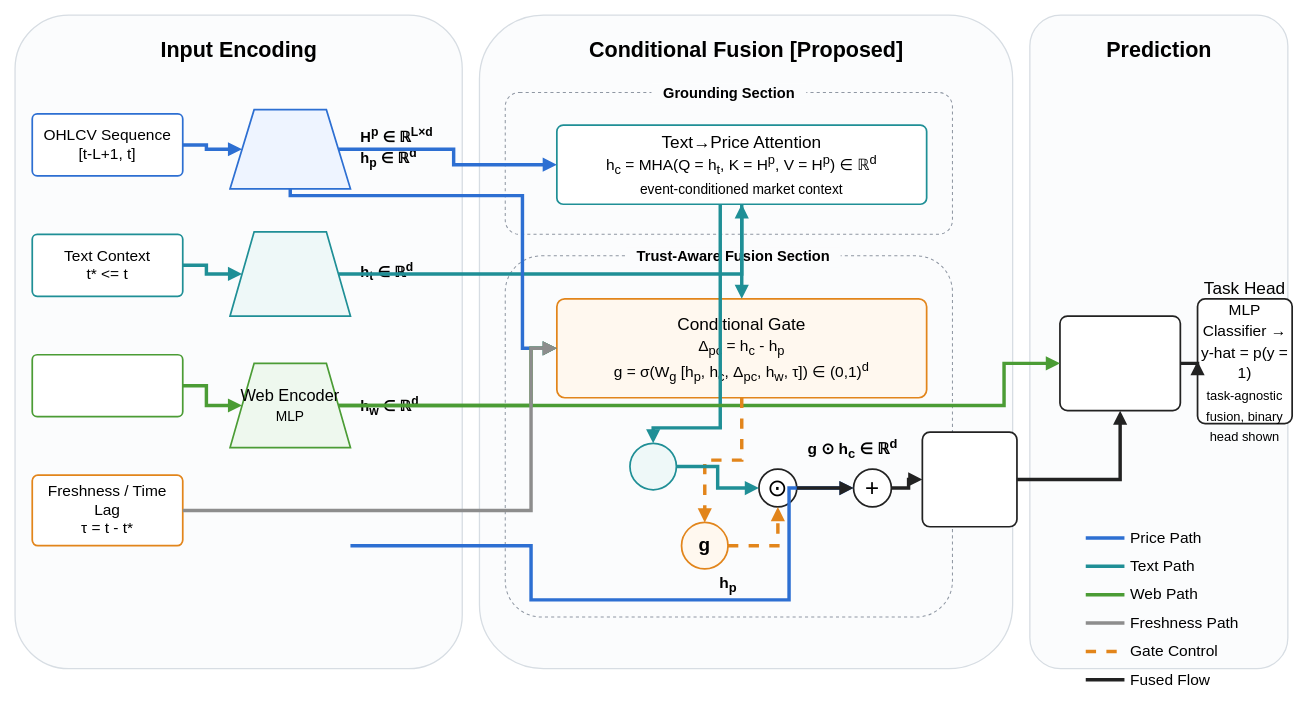
Some shapes in this 1308 by 706 pixel diagram are drawn without their labels. The centre of each missing label's shape, as x and y in pixels:
"Concatenation [h f ; h w ] ∈ ℝ 2d" belongs at pixel 1120 363.
"Fused State h f ∈ ℝ d price-only fallback when g→0" belongs at pixel 969 479.
"h c" belongs at pixel 653 466.
"Price Encoder" belongs at pixel 290 148.
"Text Encoder Sentence-BERT" belongs at pixel 290 273.
"Web Scalars @ t" belongs at pixel 107 385.
